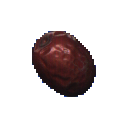gd: (21, 20, 111, 105)
